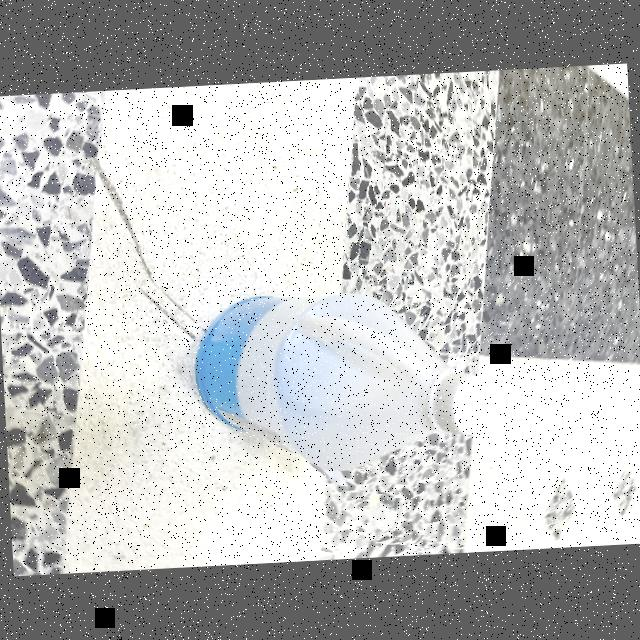chemical_plastic_gallon: (178, 272, 502, 490)
